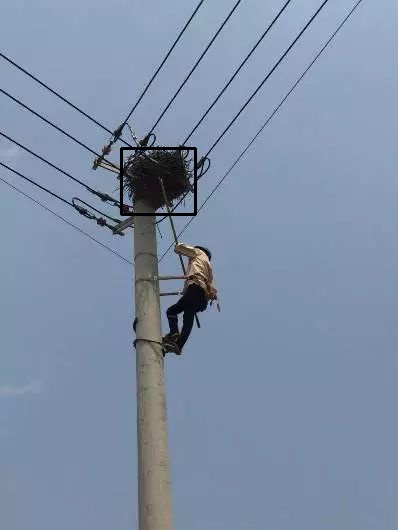bird-nest: (130, 148, 192, 204)
